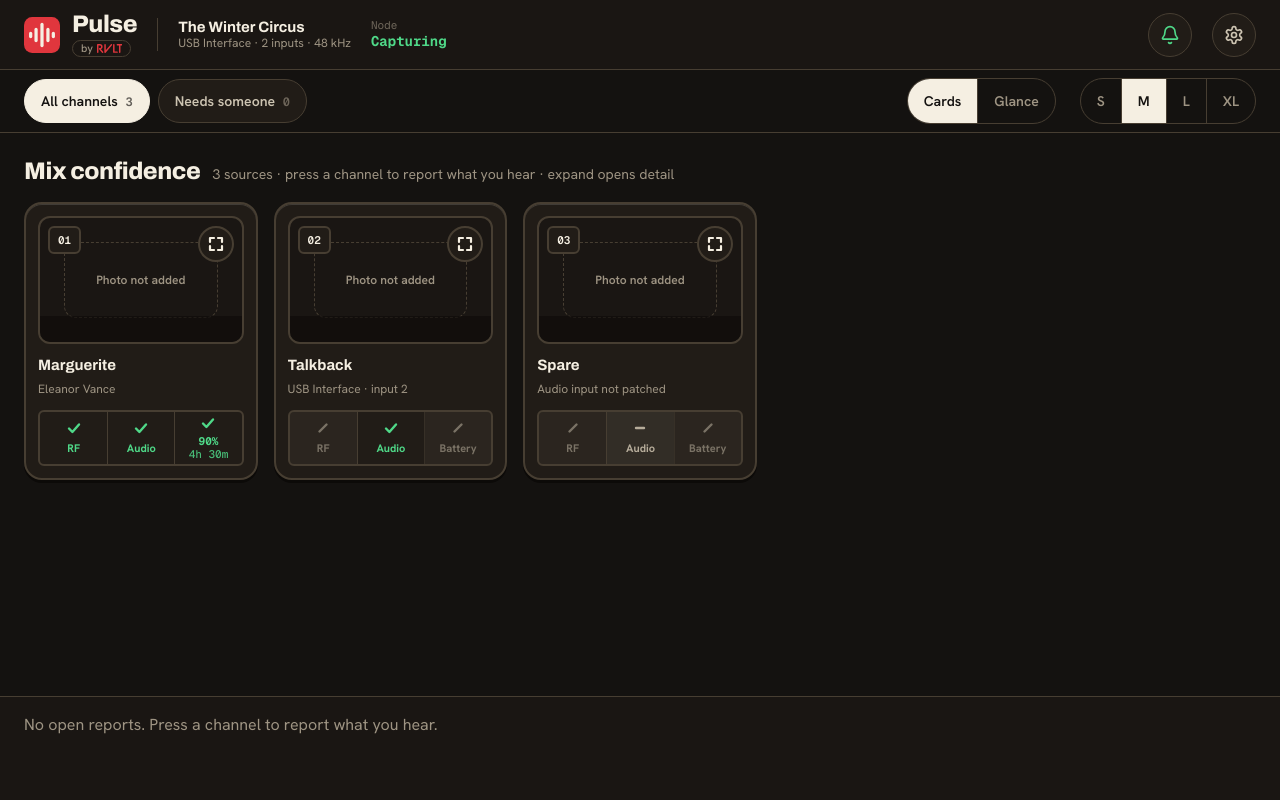
Test case: Live channel grid › lets an A1 report a fault in two presses without any listen control
Expected: the heading "Mix confidence" is shown, [24,157,200,186]
Click the button named "Report a fault on Marguerite, channel 1" at {"x": 141, "y": 341}, box [26,204,256,478]
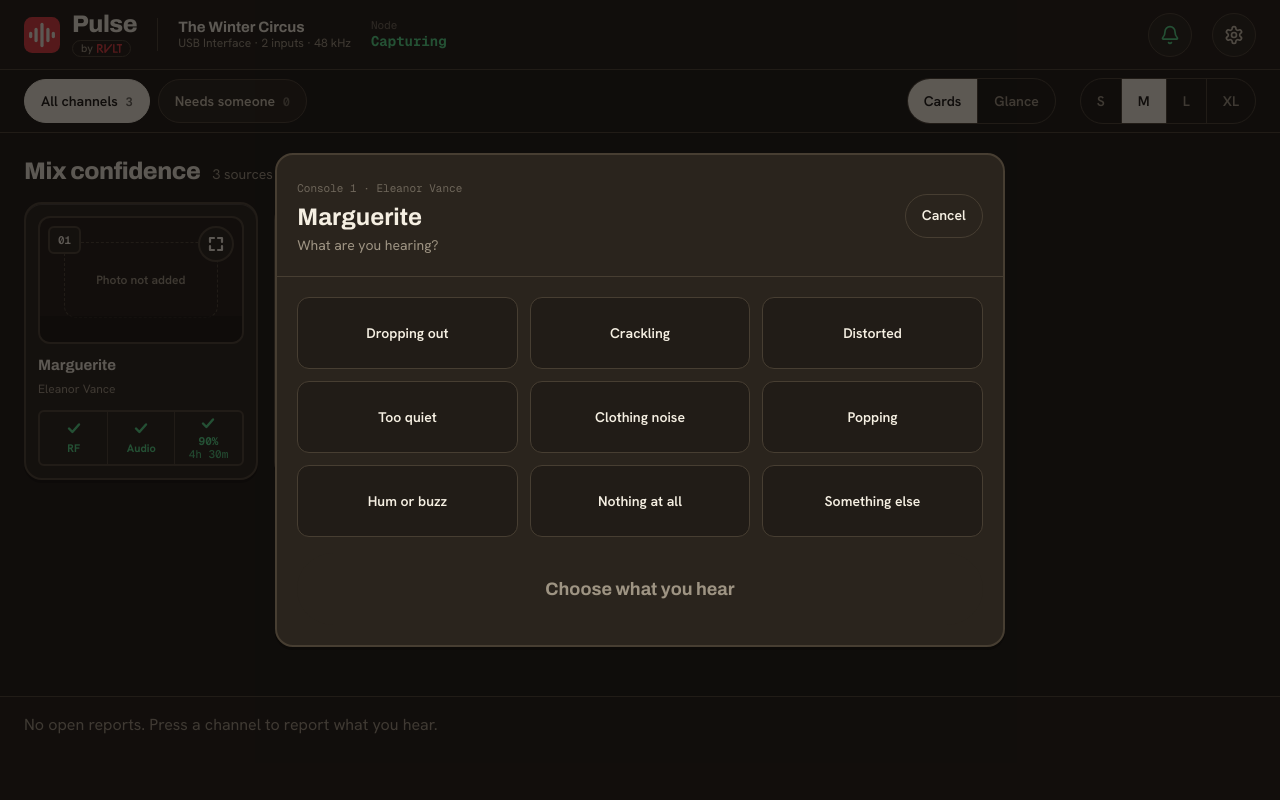
Click the button "Crackling" at {"x": 640, "y": 333}, box [530,297,750,369]
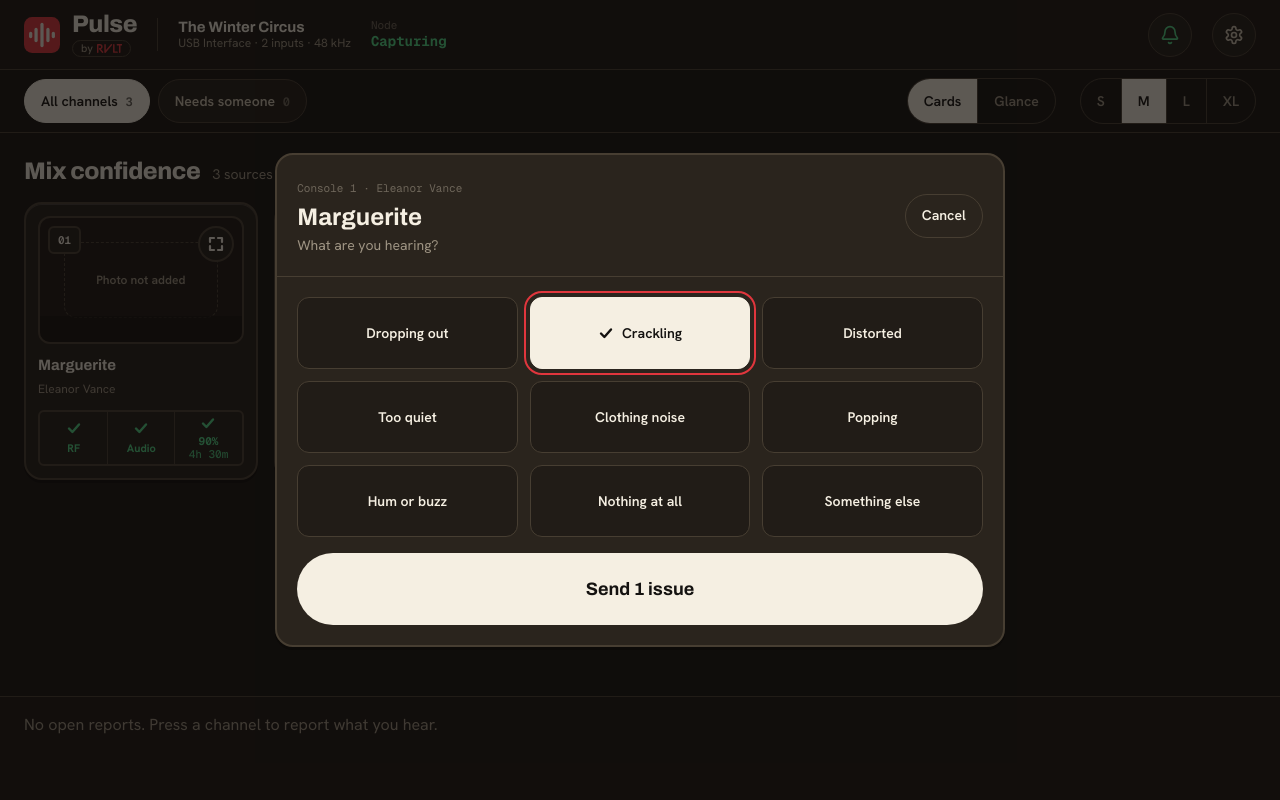
Click the button "Clothing noise" at {"x": 640, "y": 417}, box [530,381,750,453]
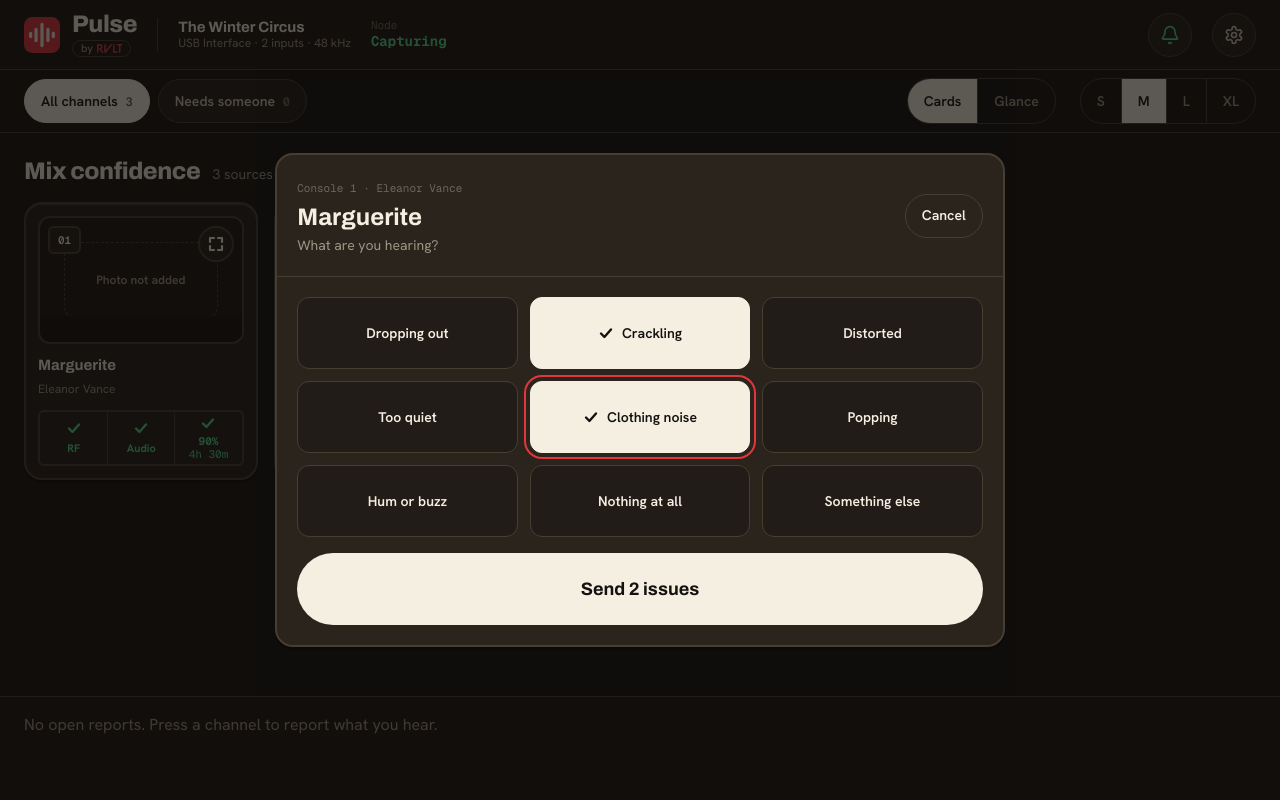
Click the button "Send 2 issues" at {"x": 640, "y": 589}, box [297,553,983,625]
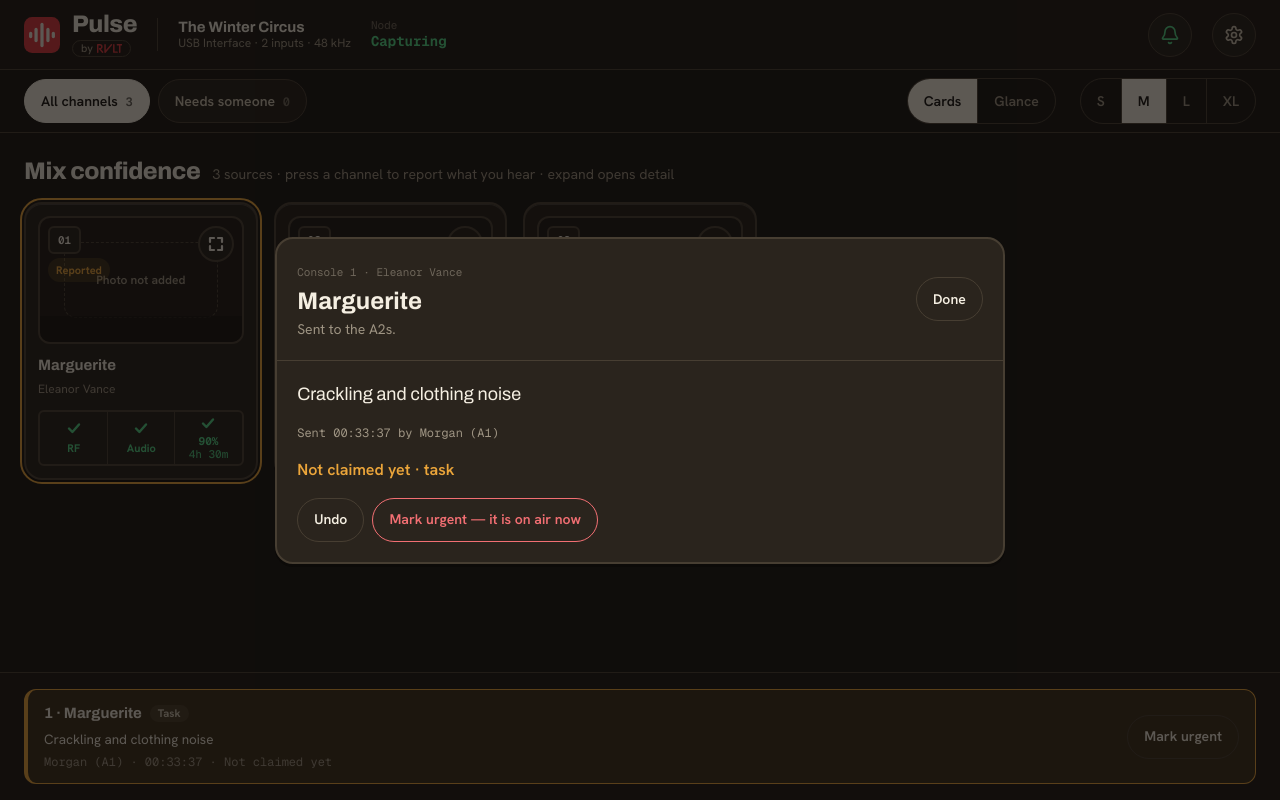
Result: the text "Sent to the A2s." is shown at [297,320,396,338]
Result: the button "Undo" is shown at [297,498,364,542]
Click the button "Mark urgent — it is on air now" at {"x": 485, "y": 520}, box [372,498,598,542]
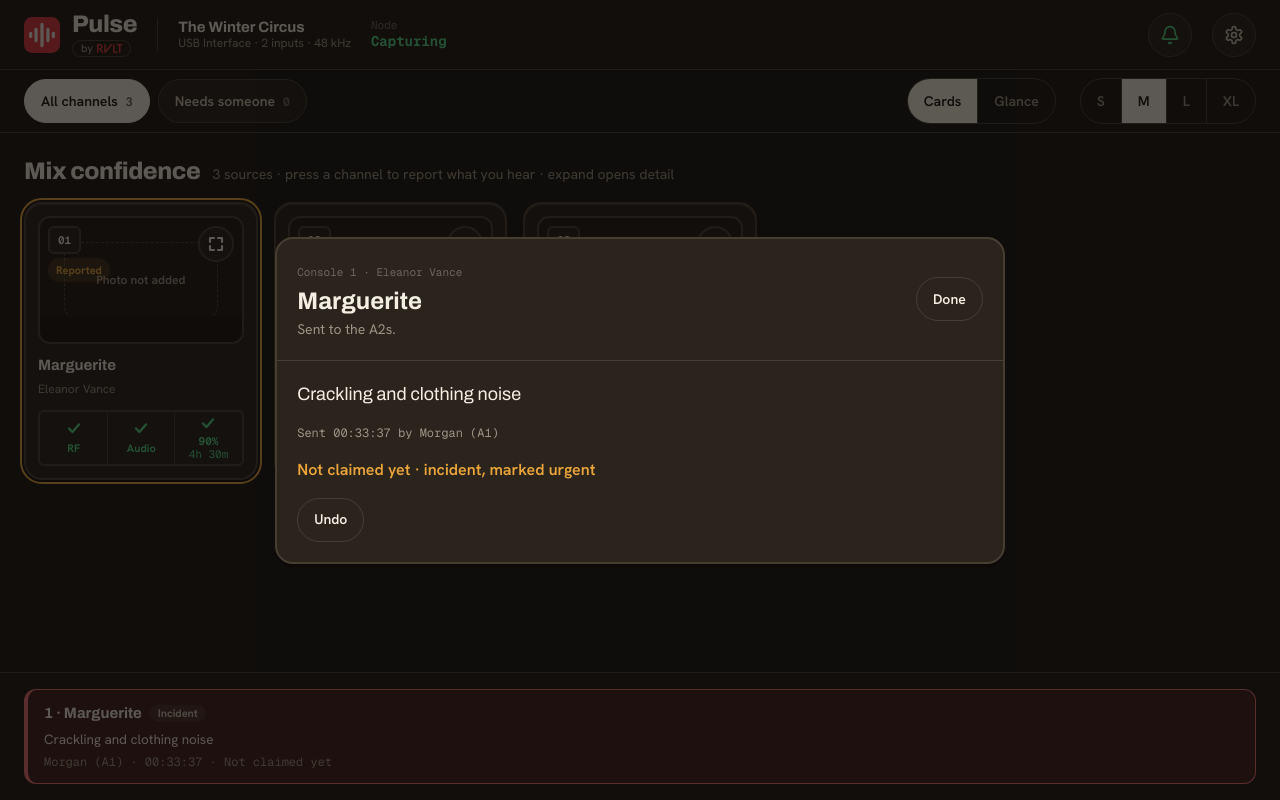
Result: the text "Not claimed yet · incident, marked urgent" is shown at [297,458,596,480]
